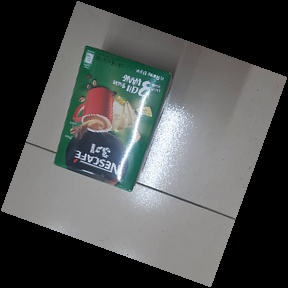Nes Rang: (51, 44, 176, 193)
